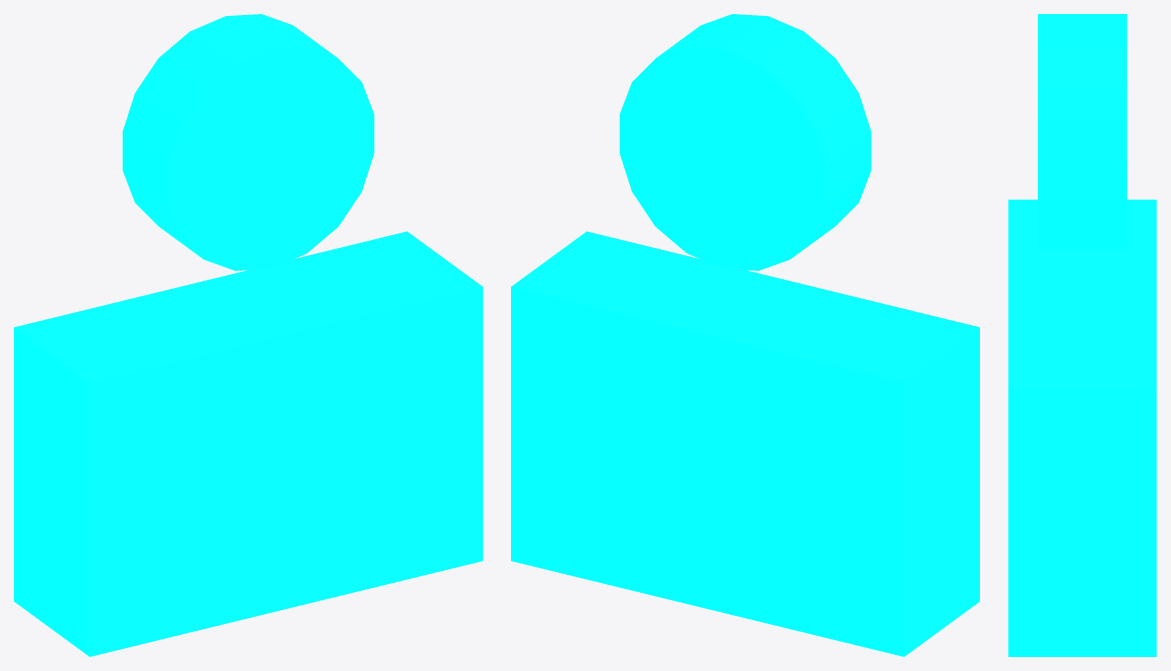
File: scanner_pickup.glb
3 renders of one model, left to right at view 1: azimuth 30°, elevation 25°; view 2: azimuth 150°, elevation 25°; view 3: azimuth 270°, elevation 25°, orthographic.
Parts seen in each view (by area): view 1: scanner_body, scanner_lens; view 2: scanner_body, scanner_lens; view 3: scanner_body, scanner_lens.
Boxes of the visible parts, x1,y1,x2,y2 form: scanner_body: (14,231,482,656); scanner_lens: (122,14,374,270); scanner_body: (511,231,979,656); scanner_lens: (619,14,871,270); scanner_body: (1008,199,1156,656); scanner_lens: (1038,14,1126,250).
Bounding box in the file's own units: 0.15 × 0.2 × 0.05.
